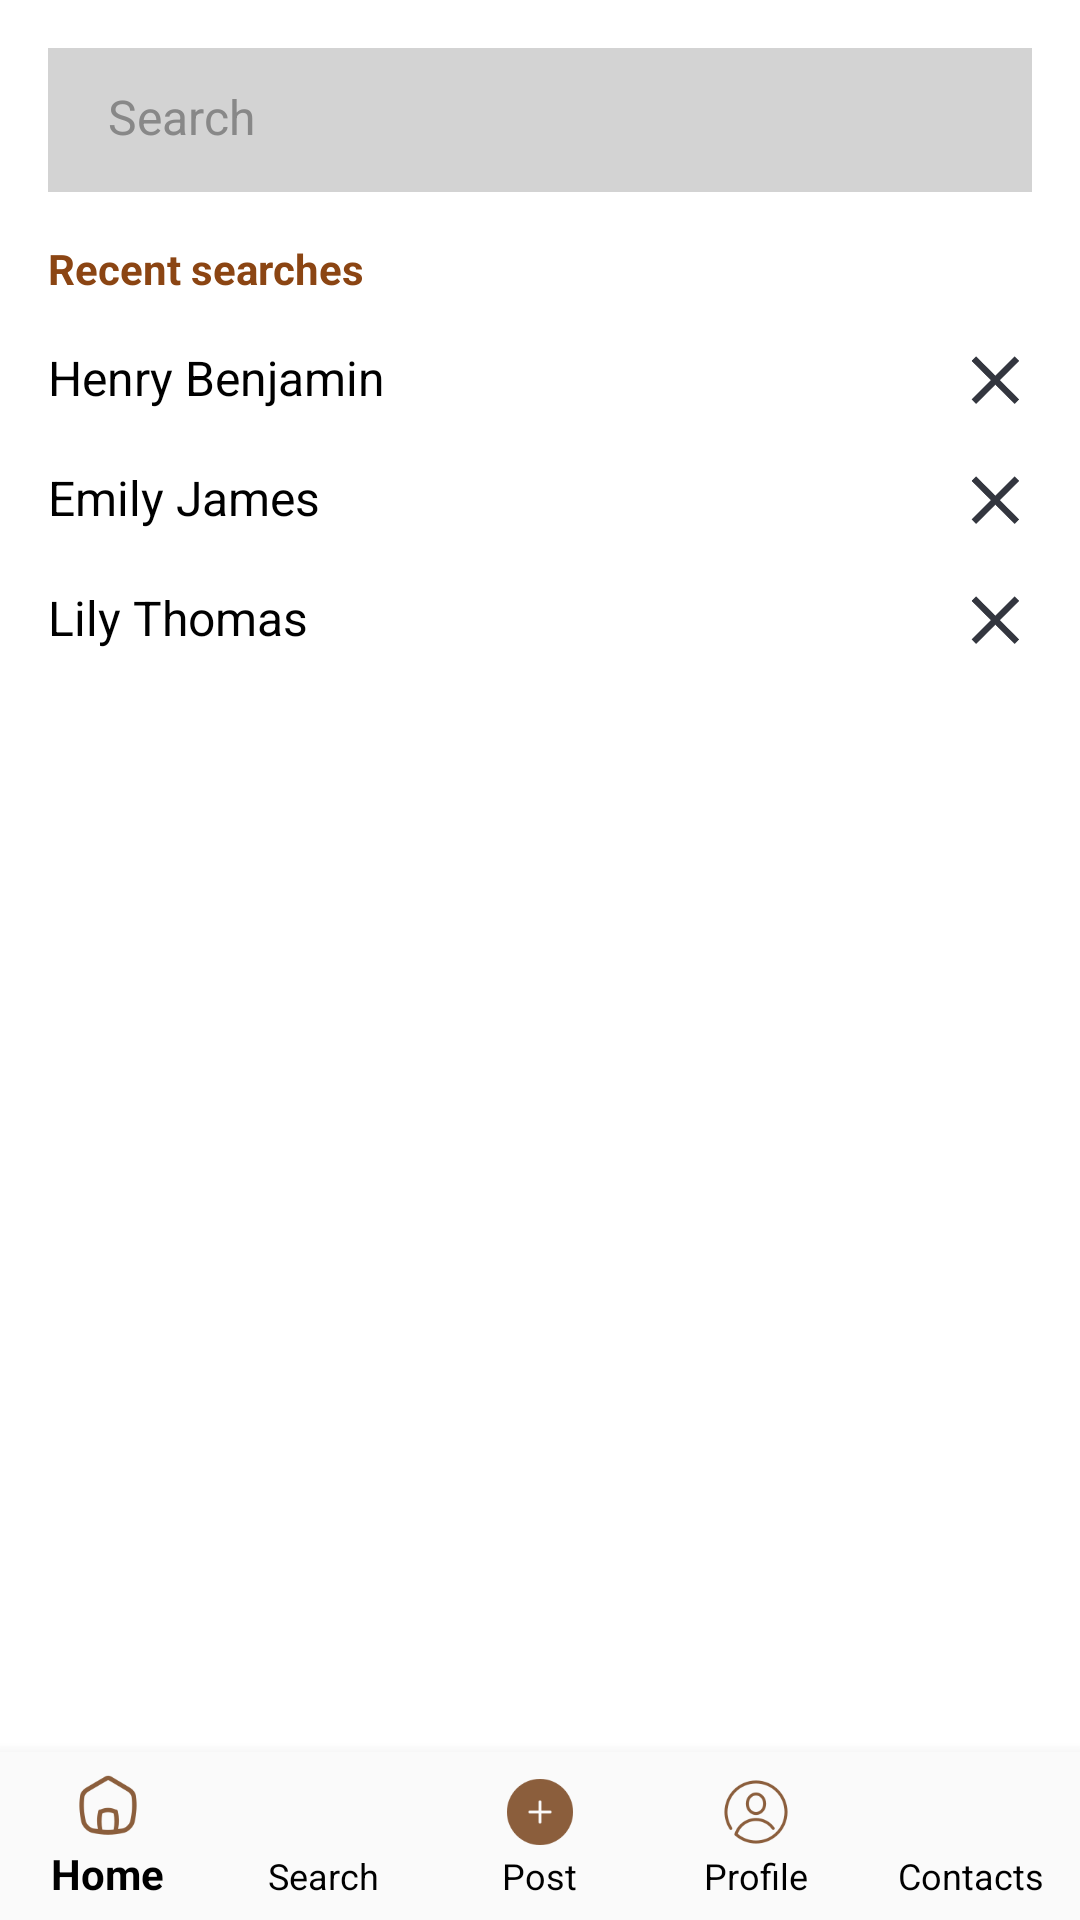

Where to tap for icons on this 1080 x 1920 app screen, as point (x, y):
close: point (995, 380), point (995, 500), point (995, 620)
